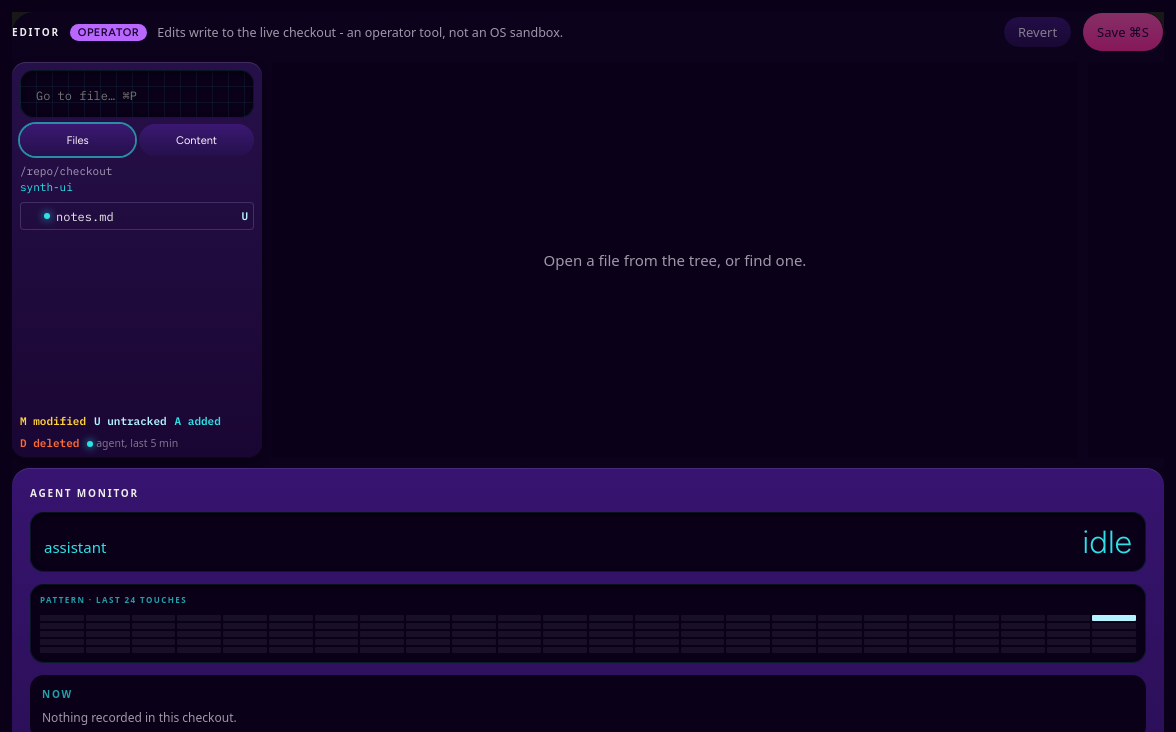
Test case: keeps the content search the old editor had
This screenshot has width=1176, height=732.
Click the button "Content". click: [196, 140]
box: [139, 124, 254, 156]
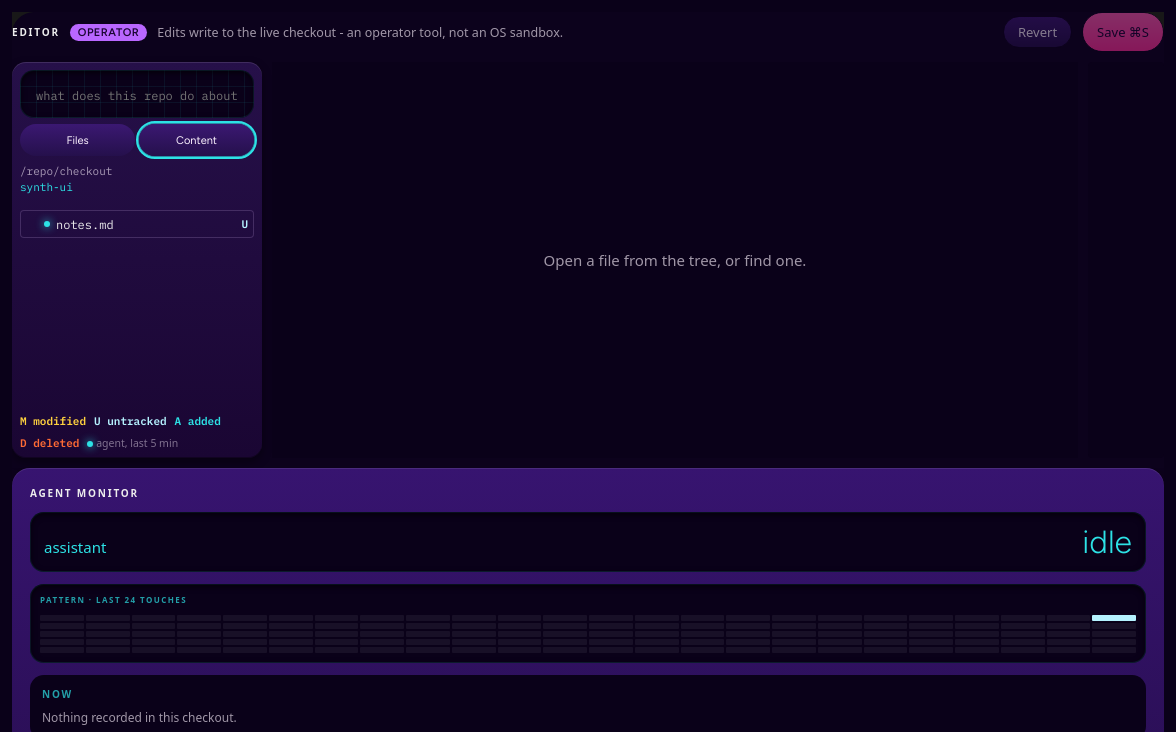
Type "anything" into the field named "Search file contents". click: [137, 96]
box: [34, 87, 240, 104]
Then press Enter
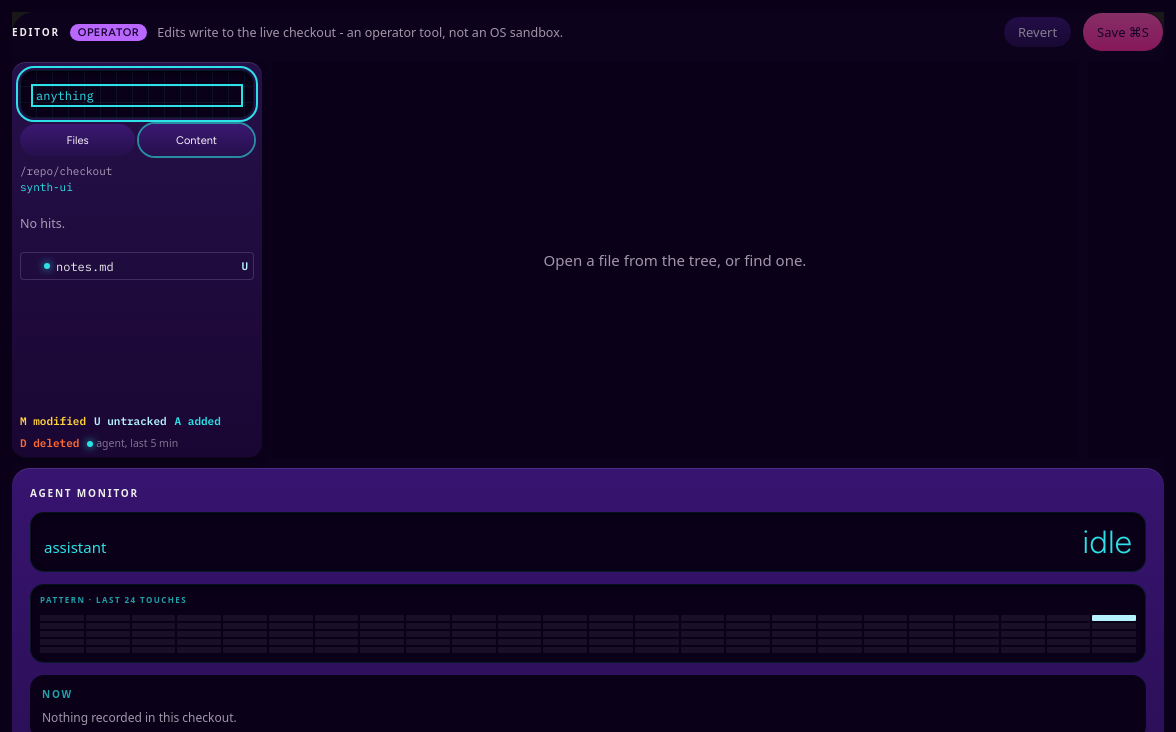
Result: the text "No hits." is shown at [20, 214, 65, 232]
